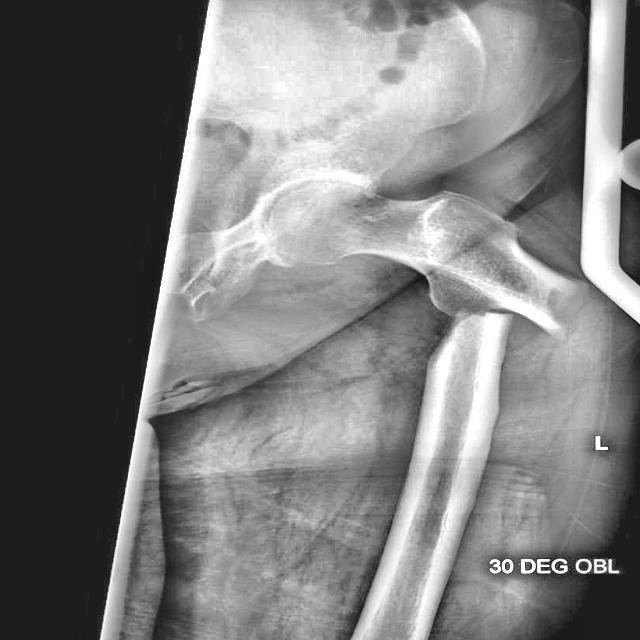fracture: (412, 278, 589, 354)
